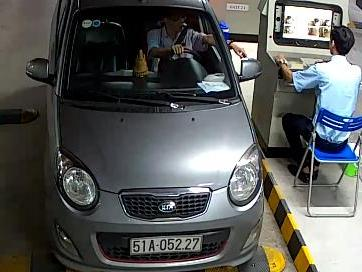number: (129, 232, 203, 253)
